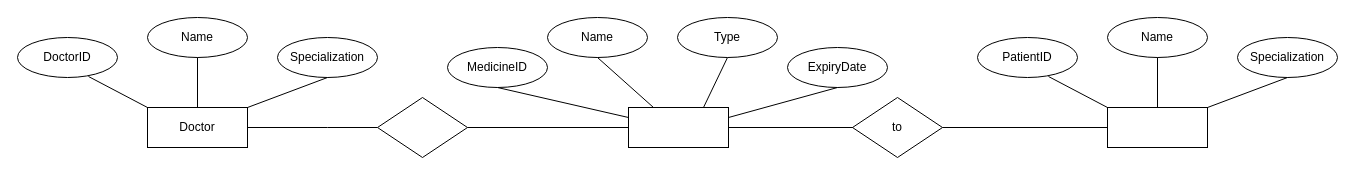
This 1355x175 diagram has some shape labels left out. Here are the shapes that lost their labels. From the top down, the box of each, then its label:
(376, 96, 468, 158): Prescribes
(628, 106, 728, 148): Medicines
(1106, 106, 1208, 148): Patient
